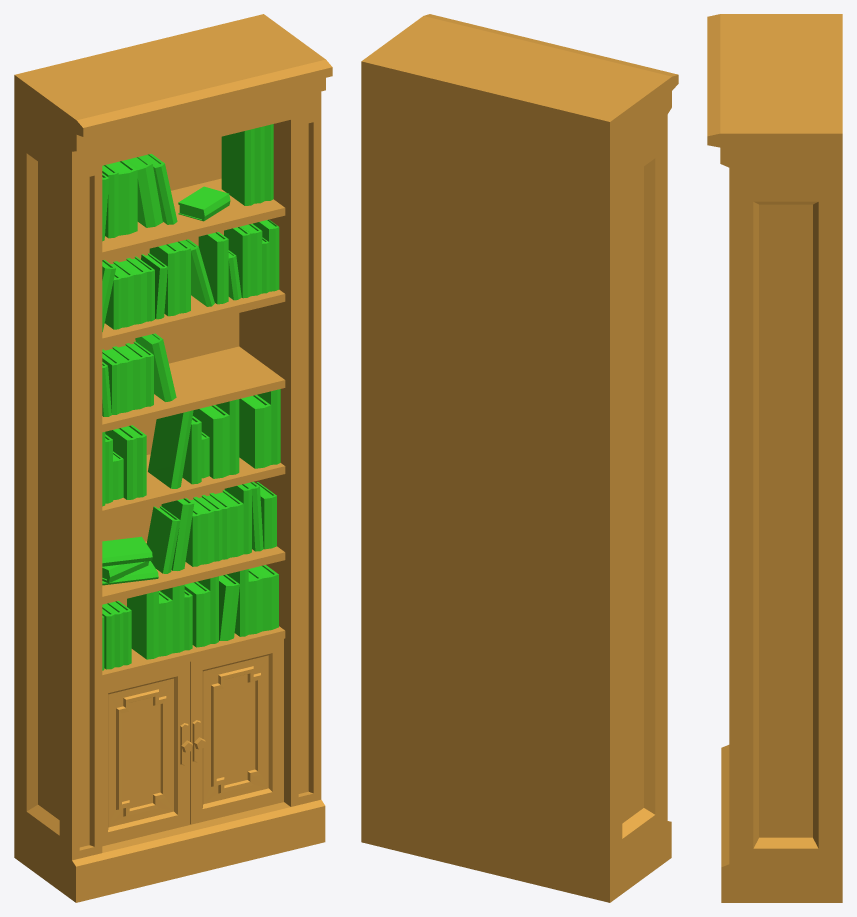
Rendered from Sm_Bookcase_Modular_Cabinet_Filled_1m_B.fbx.
3 views of the same model, side by side, from view 1: azimuth 30°, elevation 25°; view 2: azimuth 150°, elevation 25°; view 3: azimuth 270°, elevation 25° (orthographic).
Parts seen in each view (by area): view 1: library-modular-cabinet-filled-1m-b-base, library-modular-cabinet-filled-1m-b-door-r, library-modular-cabinet-filled-1m-b-door-l; view 2: library-modular-cabinet-filled-1m-b-base; view 3: library-modular-cabinet-filled-1m-b-base.
Boxes of the visible parts, box(x1,y1,x2,y2) form: library-modular-cabinet-filled-1m-b-base: box(14, 14, 332, 902); library-modular-cabinet-filled-1m-b-door-r: box(190, 639, 283, 824); library-modular-cabinet-filled-1m-b-door-l: box(102, 661, 192, 846); library-modular-cabinet-filled-1m-b-base: box(361, 14, 678, 902); library-modular-cabinet-filled-1m-b-base: box(707, 14, 842, 902).
Size of the model in its own units: 1 by 3 by 0.4778.
